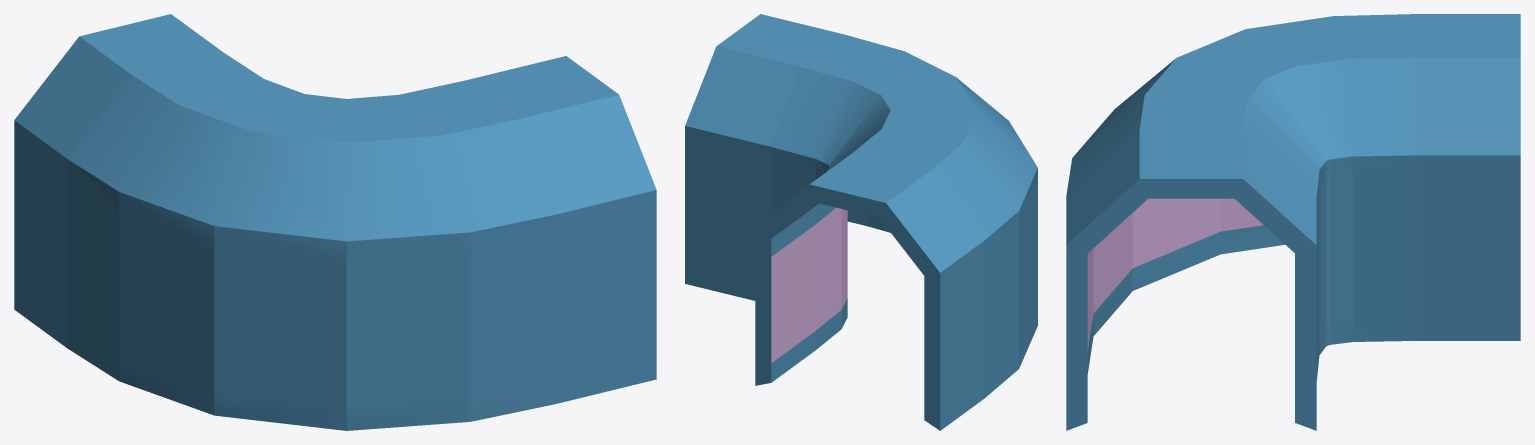
Rendered from HallwayCornerUVed.fbx.
3 views of the same model, side by side, from view 1: azimuth 30°, elevation 25°; view 2: azimuth 150°, elevation 25°; view 3: azimuth 270°, elevation 25° (orthographic). The views are drawn at different scales.
Visible parts, largest first — view 1: BasicCurvedHallwayF; view 2: BasicCurvedHallwayF; view 3: BasicCurvedHallwayF.
Boxes of the visible parts, box(x1,y1,x2,y2) form: BasicCurvedHallwayF: box(14, 14, 656, 430); BasicCurvedHallwayF: box(685, 14, 1037, 430); BasicCurvedHallwayF: box(1066, 14, 1520, 430).
Size of the model in its own units: 1877 by 1125 by 1840.
